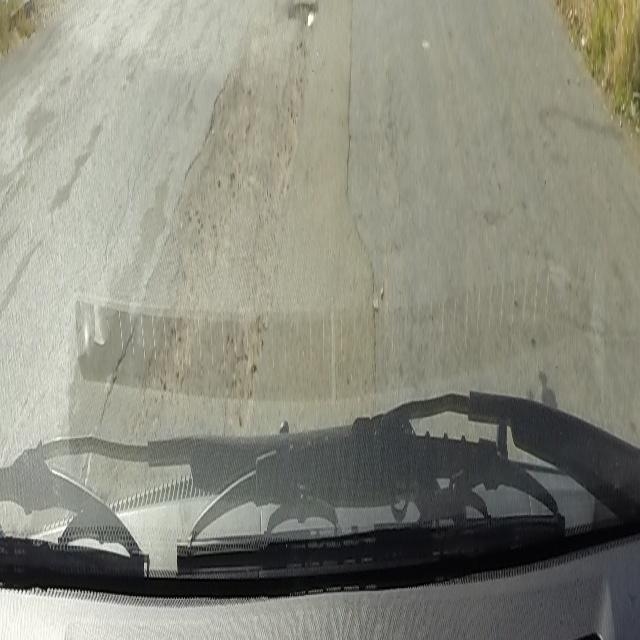pothole: (285, 1, 316, 25)
